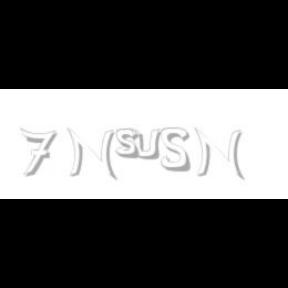7: (20, 128, 57, 178)
N: (66, 128, 115, 180), (194, 128, 242, 180)
S: (161, 128, 192, 172)
s: (116, 128, 144, 160)
u: (130, 128, 164, 160)
